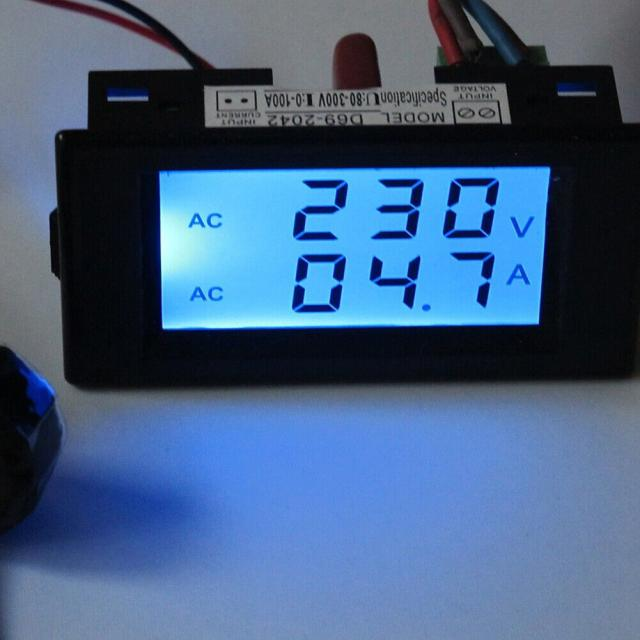display: (162, 168, 548, 328)
frame: (288, 173, 502, 242), (288, 248, 502, 317), (265, 112, 348, 127), (326, 88, 364, 110), (271, 91, 303, 107)
gauge: (56, 69, 640, 391)
